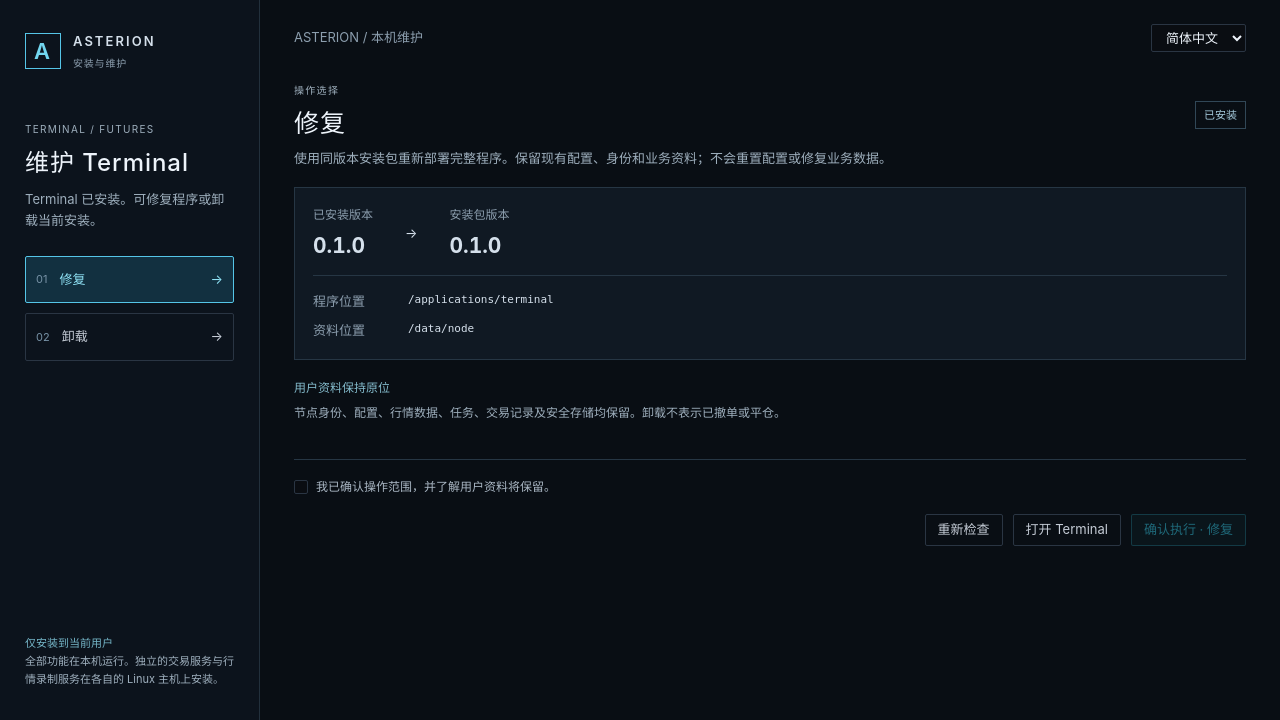
Test: deleting data is opt-in and changing retention clears the previous confirmation
Check: the text "/applications/terminal" is shown, box [408,293,554,306]
Check: the checkbox labelled "保留配置与业务数据" is not shown
Click the button "02 卸载 →" at (130, 337), box [25,313,234,361]
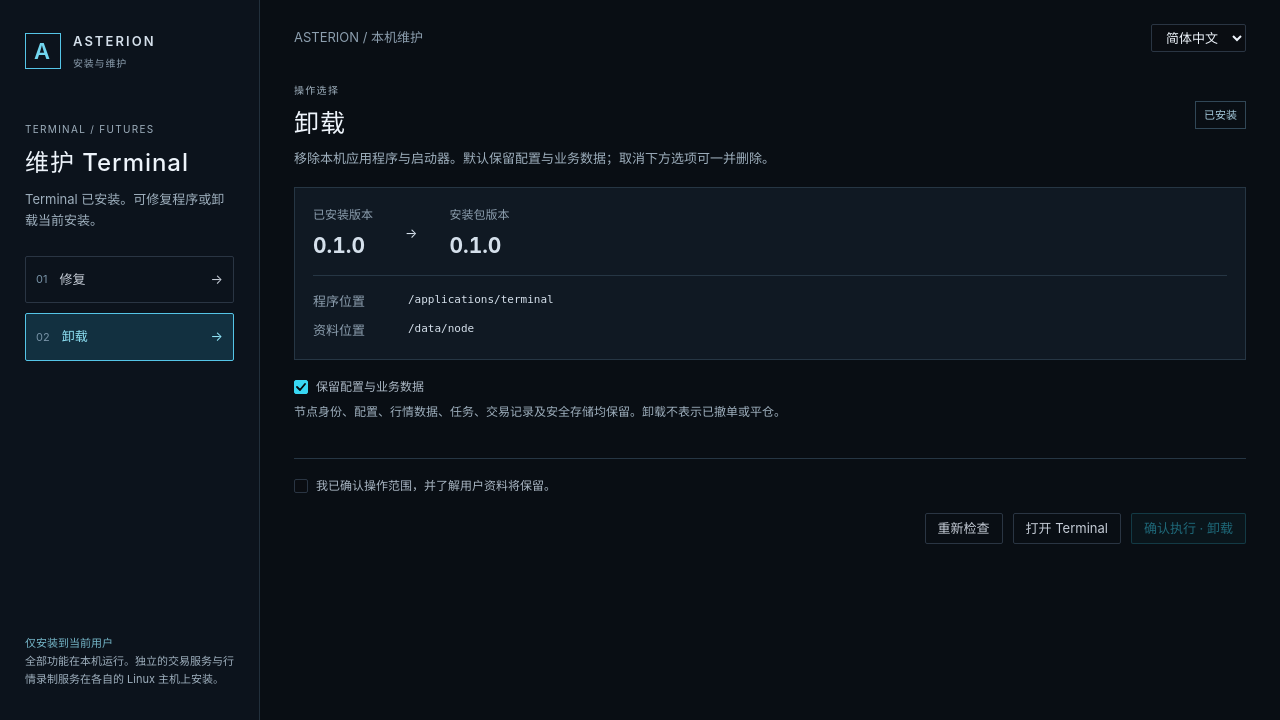
Click the checkbox labelled "我已确认操作范围，并了解用户资料将保留。" at (301, 486), box [294,479,308,493]
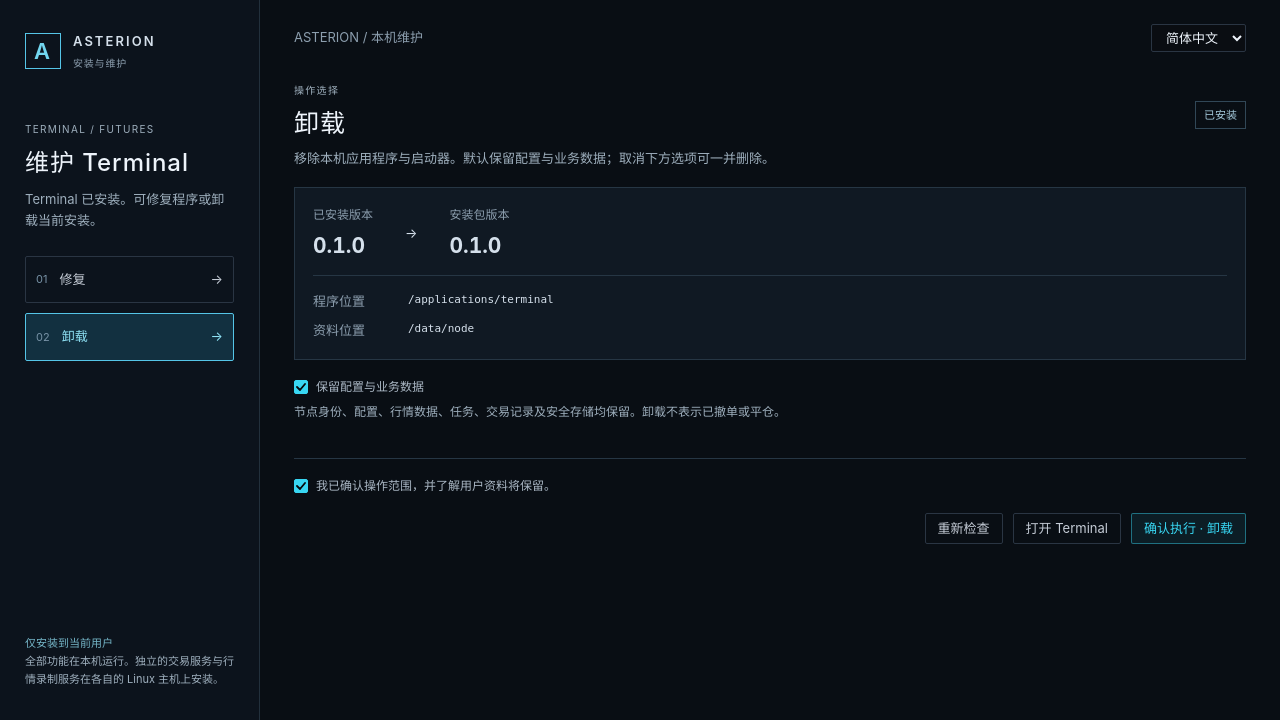
Click the checkbox labelled "保留配置与业务数据" at (301, 387), box [294,380,308,394]
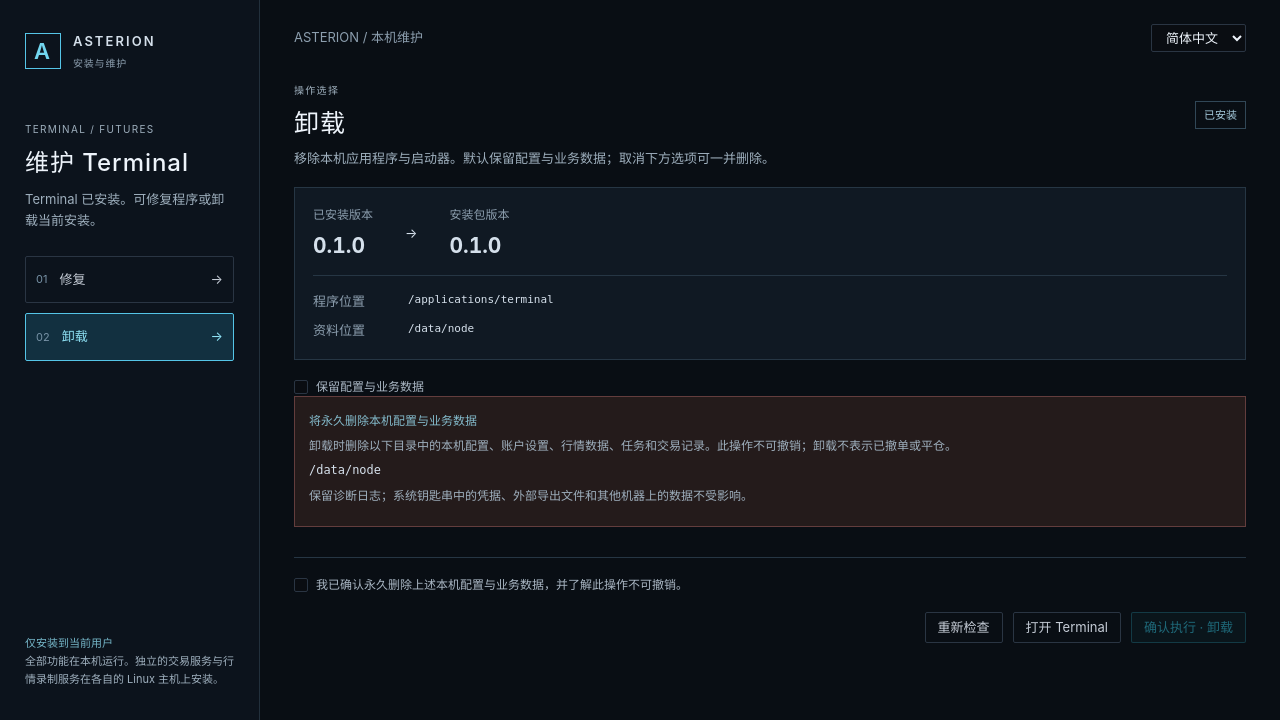
Check: the checkbox labelled "我已确认永久删除上述本机配置与业务数据，并了解此操作不可撤销。" is not checked
Check: the message shows "/data/node", box [309,463,381,477]
Check: the button "确认执行 · 卸载" is disabled, box [1131,612,1246,644]
Click the checkbox labelled "我已确认永久删除上述本机配置与业务数据，并了解此操作不可撤销。" at (301, 585), box [294,578,308,592]
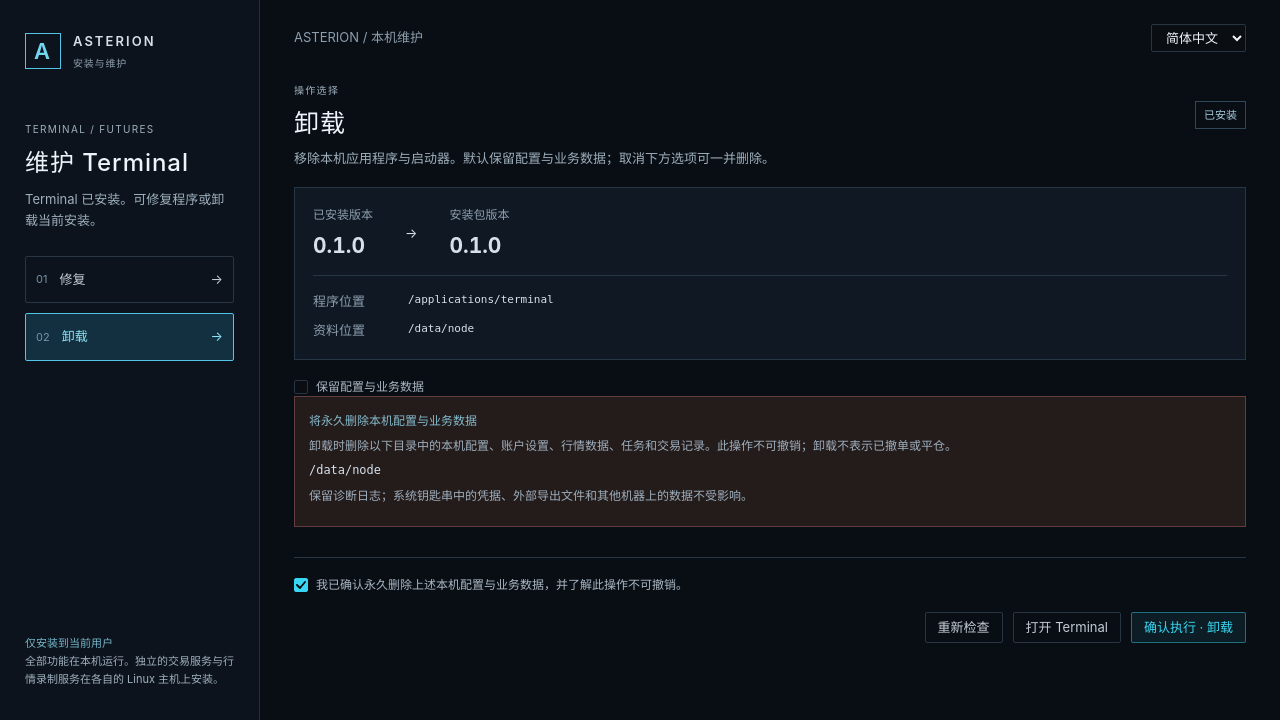
Click the button "确认执行 · 卸载" at (1188, 628), box [1131,612,1246,644]
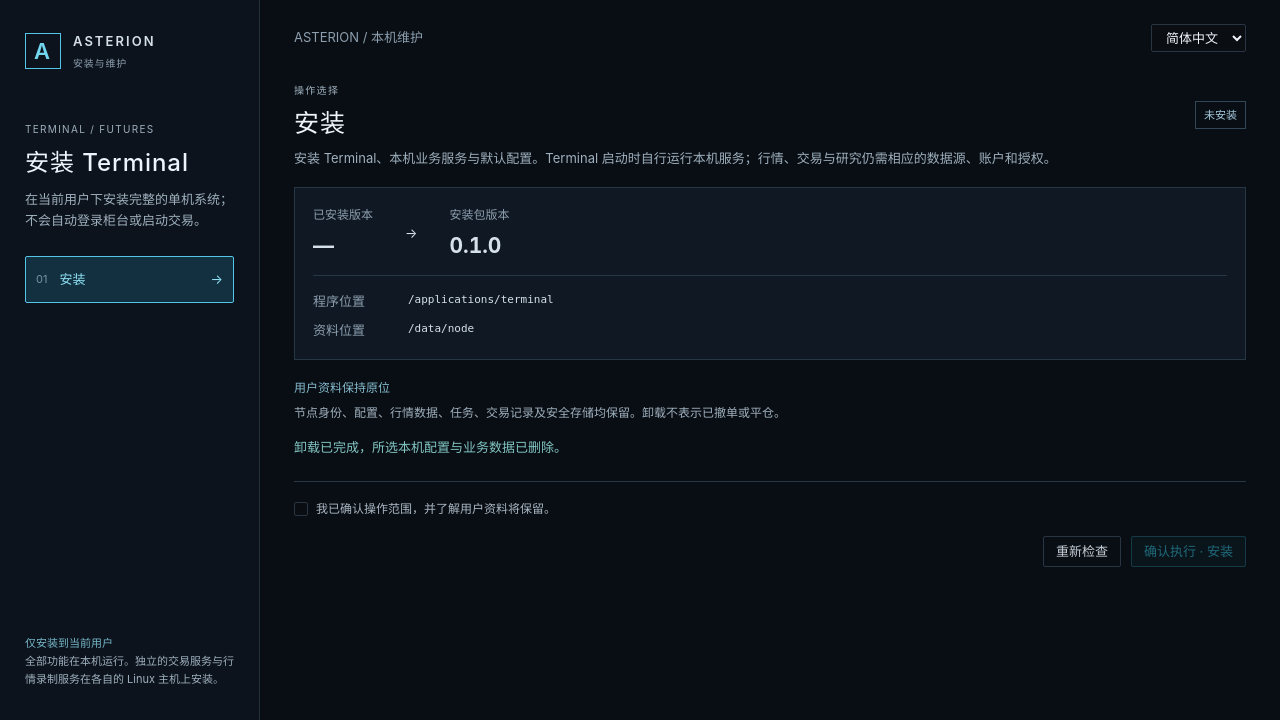
Check: the text "卸载已完成，所选本机配置与业务数据已删除。" is shown, box [294,439,567,455]
